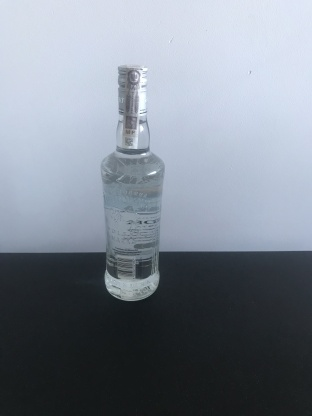nakretka: (114, 61, 150, 118)
